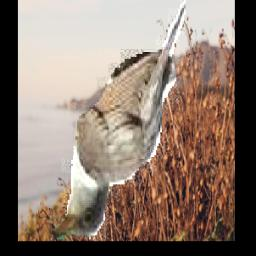Cuckoo: (48, 1, 186, 241)
